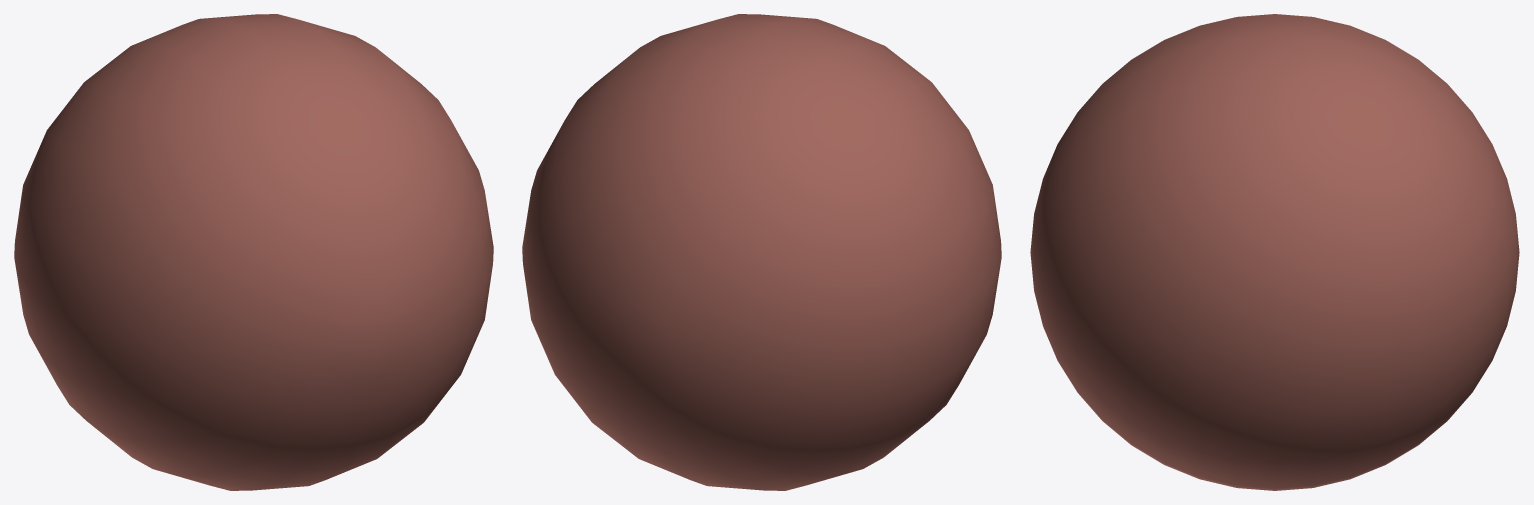
File: mixamo_humanoid_joint_neck.fbx
3 renders of one model, left to right at view 1: azimuth 30°, elevation 25°; view 2: azimuth 150°, elevation 25°; view 3: azimuth 270°, elevation 25°, orthographic.
Parts seen in each view (by area): view 1: joint_Neck; view 2: joint_Neck; view 3: joint_Neck.
Boxes of the visible parts, box(x1,y1,x2,y2) form: joint_Neck: box(14, 14, 493, 490); joint_Neck: box(522, 14, 1001, 490); joint_Neck: box(1030, 14, 1519, 490).
Size of the model in its own units: 10.26 by 10.26 by 10.44.
